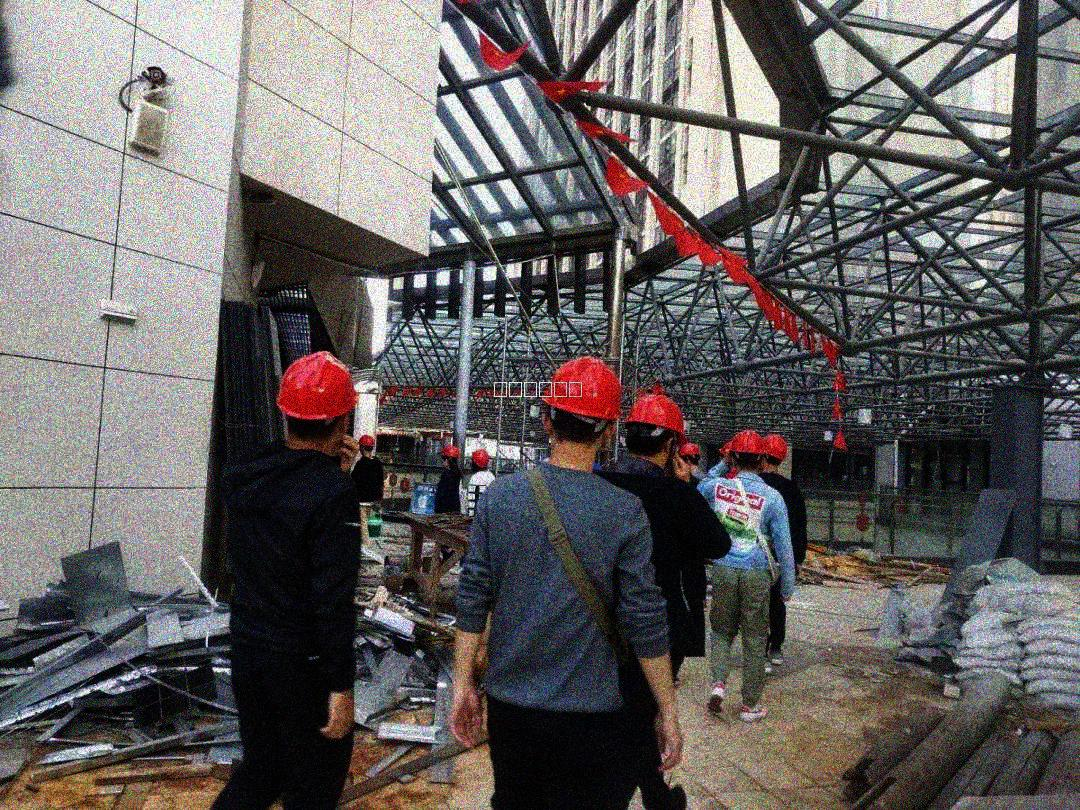helmet: (275, 348, 359, 450), (536, 357, 621, 452), (622, 392, 684, 468), (730, 429, 764, 472), (762, 431, 790, 473), (679, 440, 701, 467), (438, 444, 461, 468), (356, 434, 375, 458), (470, 447, 490, 469)
